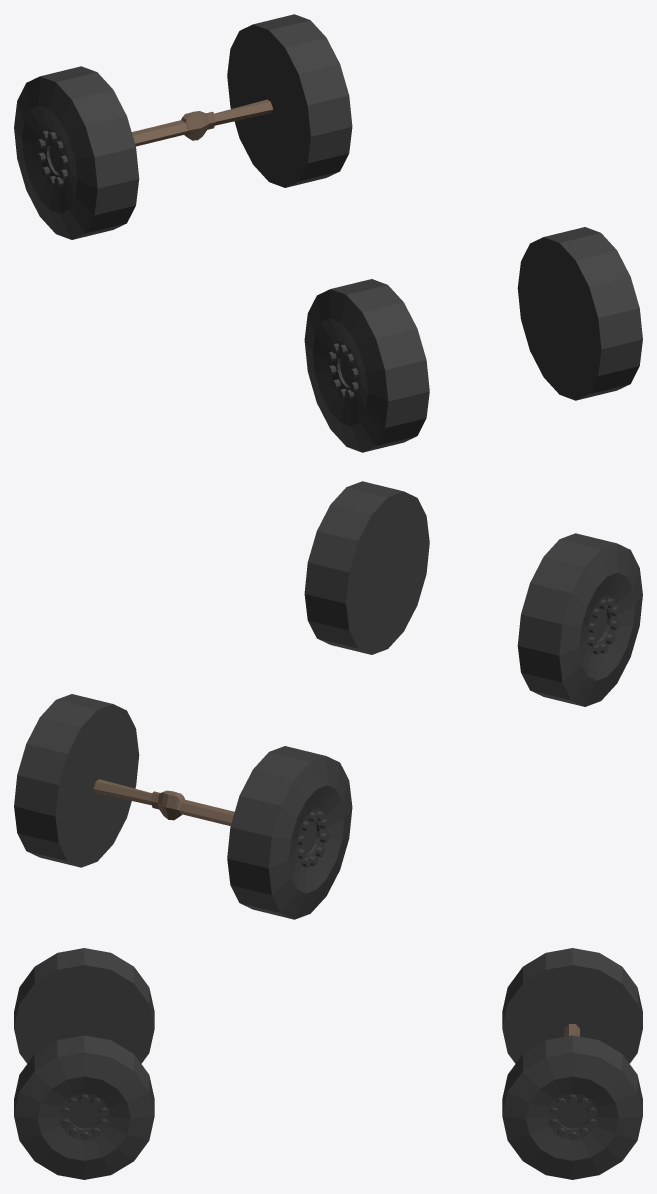
Rendered from tires.fbx.
3 views of the same model, one above another, from view 1: azimuth 30°, elevation 25°; view 2: azimuth 150°, elevation 25°; view 3: azimuth 270°, elevation 25° (orthographic). The views are drawn at different scales.
Parts seen in each view (by area): view 1: onTekerler, arkaTekerler, sasi.001; view 2: onTekerler, arkaTekerler, sasi.001; view 3: onTekerler, arkaTekerler.
Boxes of the visible parts, left/top/right/bottom form: onTekerler: left=304, top=227, right=642, bottom=452; arkaTekerler: left=14, top=14, right=352, bottom=239; sasi.001: left=131, top=99, right=273, bottom=146; onTekerler: left=304, top=481, right=642, bottom=706; arkaTekerler: left=14, top=694, right=352, bottom=919; sasi.001: left=93, top=779, right=234, bottom=825; onTekerler: left=14, top=948, right=154, bottom=1179; arkaTekerler: left=502, top=948, right=642, bottom=1179.
Bounding box in the file's own units: 626 × 140 × 258.
